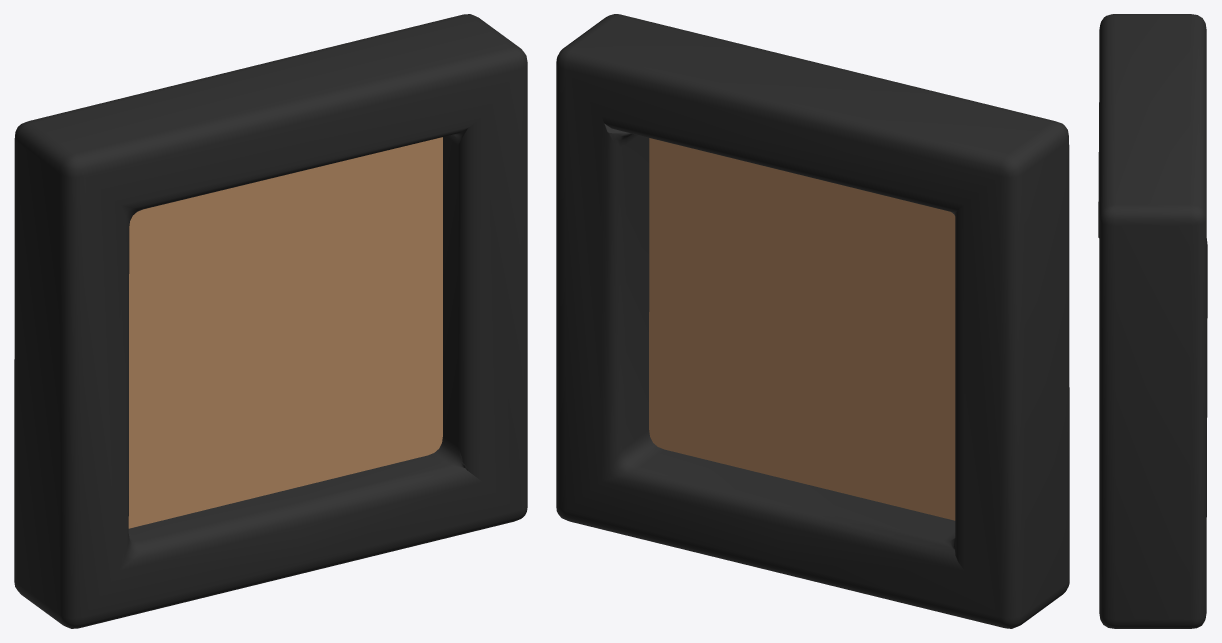
Rendered from ICON SQUARE THINIG IDK.FBX.
The picture shows the model from 3 angles, left to right: view 1: azimuth 30°, elevation 25°; view 2: azimuth 150°, elevation 25°; view 3: azimuth 270°, elevation 25°; orthographic projection. The views are drawn at different scales.
Parts seen in each view (by area): view 1: Line001, Box003; view 2: Line001, Box003; view 3: Line001.
Part boxes in pixels (bbox=[...]): Line001: bbox=[14, 14, 527, 628]; Box003: bbox=[128, 137, 442, 528]; Line001: bbox=[556, 14, 1069, 628]; Box003: bbox=[649, 138, 955, 520]; Line001: bbox=[1098, 14, 1207, 628].
Size of the model in its own units: 82.21 by 79.86 by 18.75.
